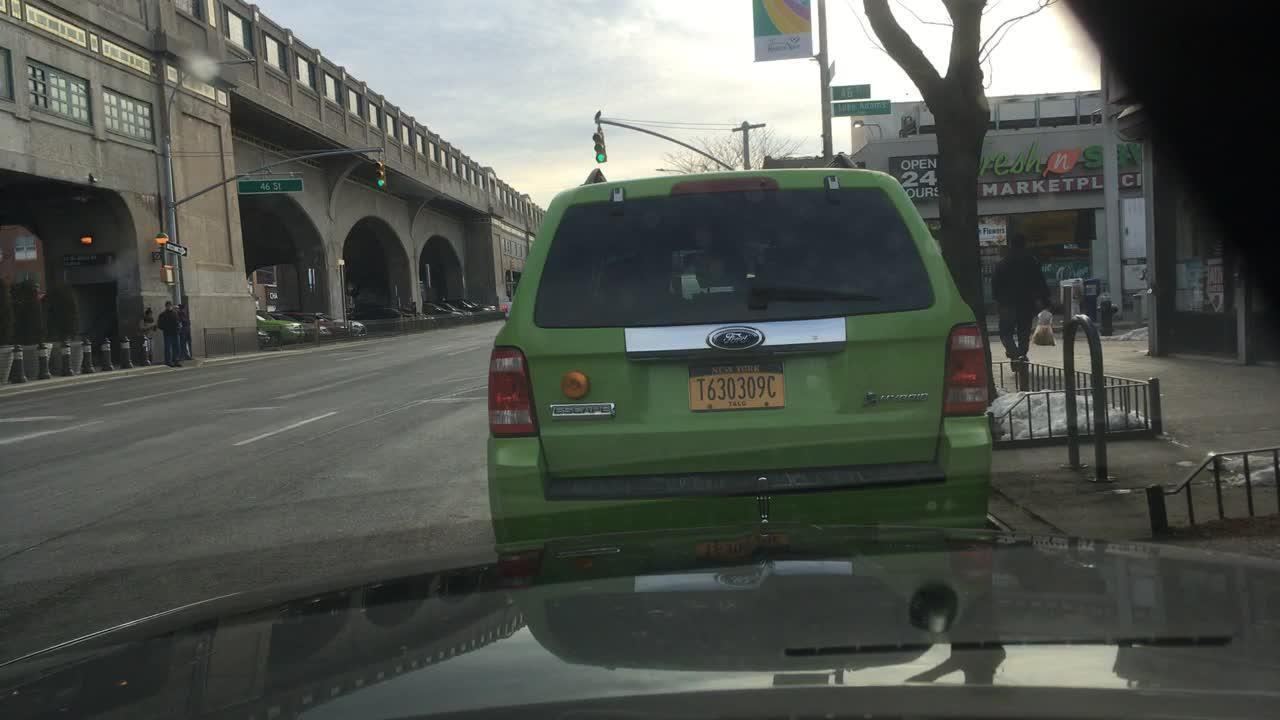ford: (700, 319, 770, 362)
